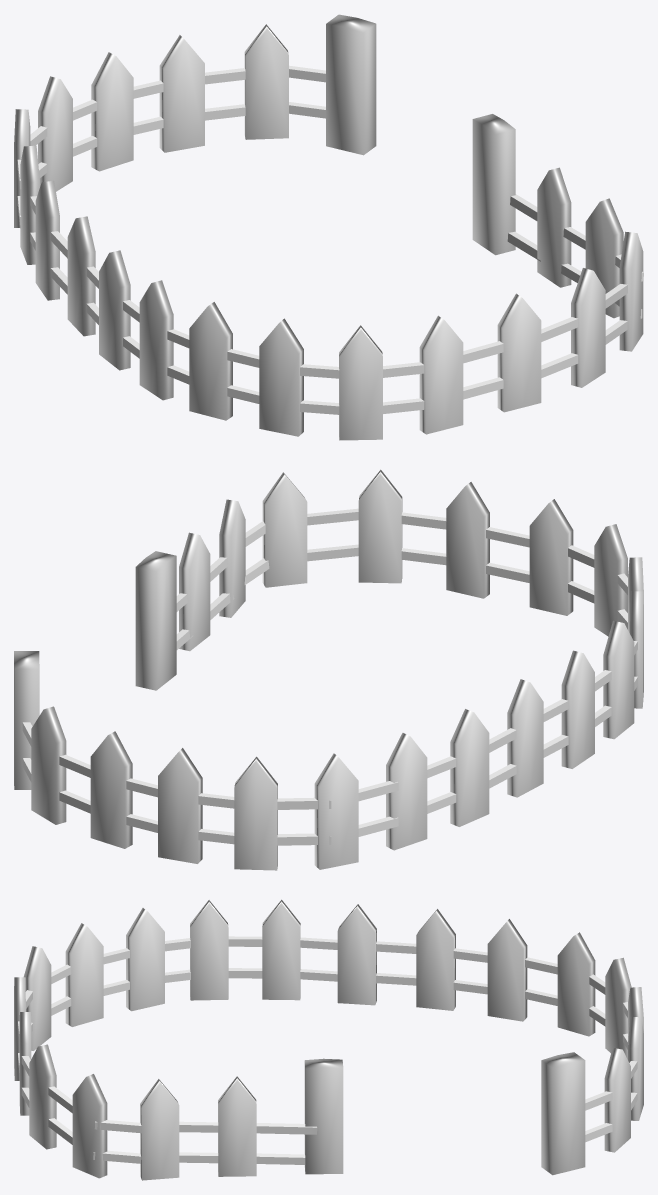
Rendered from hang rao.fbx.
3 views of the same model, one above another, from view 1: azimuth 30°, elevation 25°; view 2: azimuth 150°, elevation 25°; view 3: azimuth 270°, elevation 25° (orthographic). The views are drawn at different scales.
Parts seen in each view (by area): view 1: pCube46; view 2: pCube46; view 3: pCube46.
Part boxes in pixels (<box>): pCube46: <box>14,14,643,440</box>; pCube46: <box>14,469,643,870</box>; pCube46: <box>14,899,643,1180</box>.
Size of the model in its own units: 7.76 by 2.1 by 11.13.
1 material, 1 textured.
